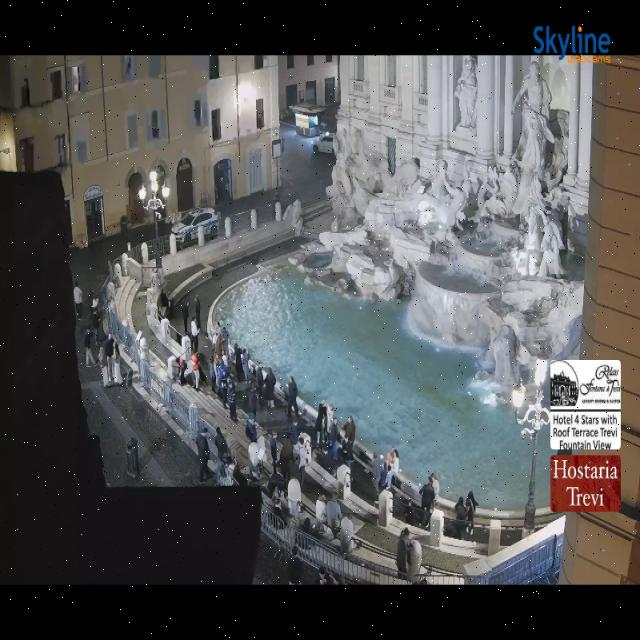person: (196, 428, 210, 484), (420, 477, 435, 527), (294, 437, 308, 490), (396, 529, 410, 577), (452, 497, 468, 538), (279, 440, 293, 483), (268, 468, 285, 502), (288, 546, 302, 584), (466, 492, 478, 536), (215, 428, 227, 472), (316, 449, 335, 476), (327, 496, 342, 530), (386, 450, 399, 489), (372, 453, 385, 490), (219, 360, 229, 408), (315, 402, 326, 445), (84, 328, 96, 367), (288, 377, 299, 418), (105, 333, 114, 381), (114, 339, 123, 385), (227, 376, 236, 422), (265, 368, 275, 408), (316, 495, 327, 531), (329, 418, 338, 461), (274, 497, 286, 529), (234, 344, 244, 382), (99, 346, 108, 387), (316, 568, 339, 584), (196, 352, 207, 384), (232, 464, 247, 487), (74, 282, 83, 319), (326, 403, 334, 442), (158, 288, 169, 316), (344, 416, 355, 444), (242, 349, 251, 382), (288, 418, 298, 447), (191, 316, 199, 352), (248, 386, 257, 418), (256, 363, 263, 404), (209, 357, 217, 392), (270, 432, 277, 472), (345, 440, 354, 470), (246, 418, 257, 442), (192, 353, 199, 390), (178, 357, 187, 385), (92, 308, 99, 344), (215, 356, 221, 397), (404, 503, 415, 525), (182, 299, 188, 335), (432, 473, 439, 503), (215, 333, 223, 358), (89, 290, 99, 309), (222, 328, 229, 355), (386, 448, 394, 470), (195, 296, 200, 330)
